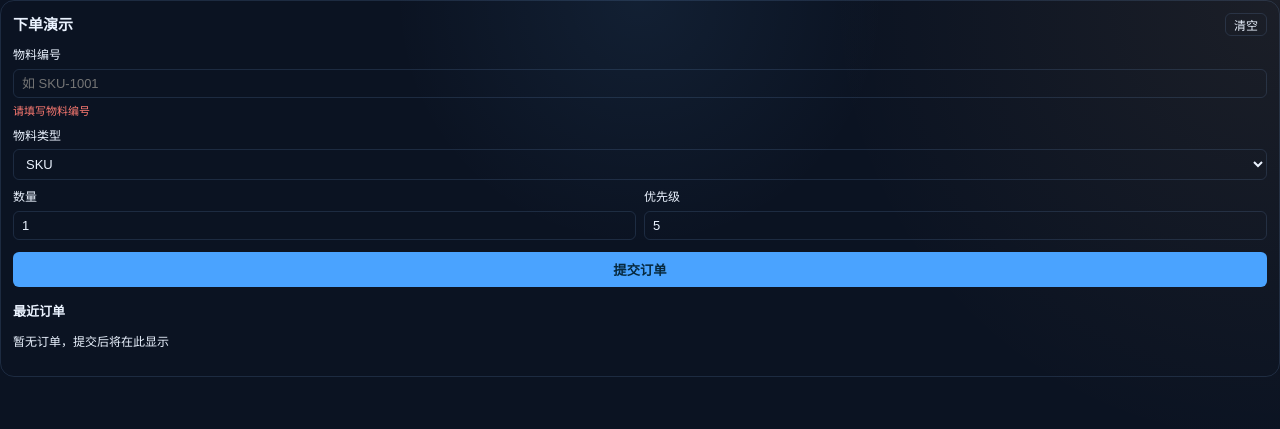
Scenario: OrderPanel › places an order end-to-end on submit
This screenshot has width=1280, height=429.
Type "1001" into the field labelled "物料编号 请填写物料编号" at (640, 83), box [13,69,1267,98]
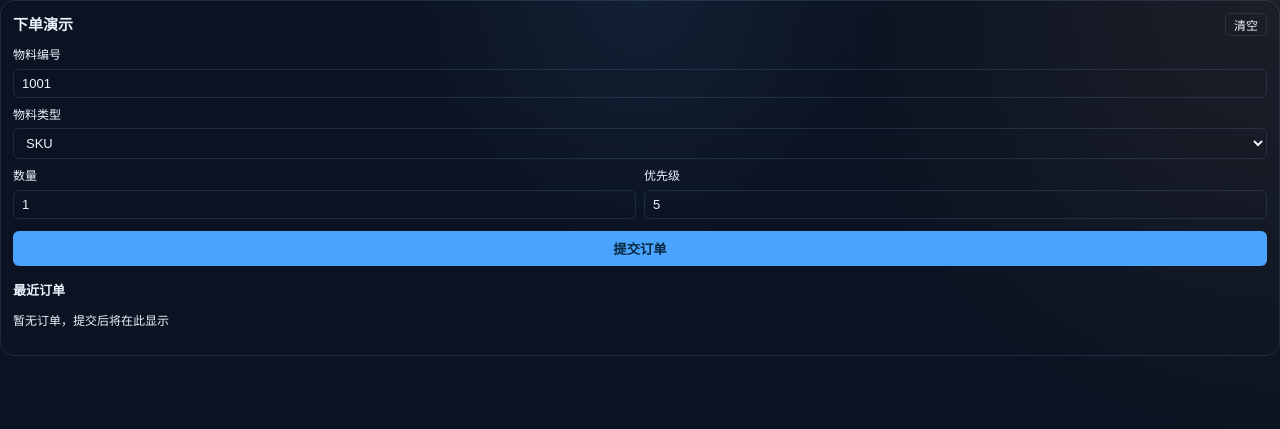
Submit the form from the submit button, box [13,231,1267,266]
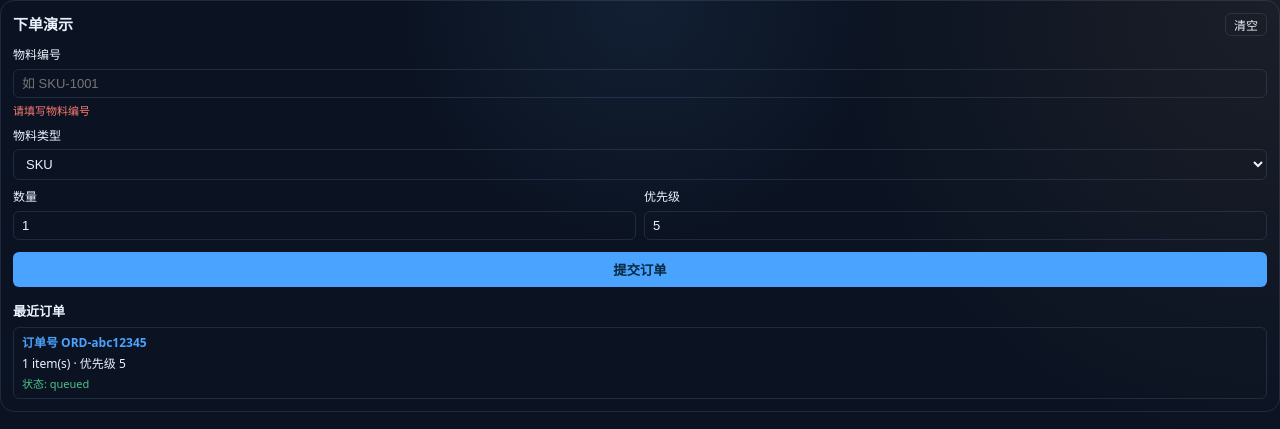
Now the number of list items is 1, box [13,327,1267,399]
Now the text "ORD-abc12345" is shown, box [22,334,147,351]
